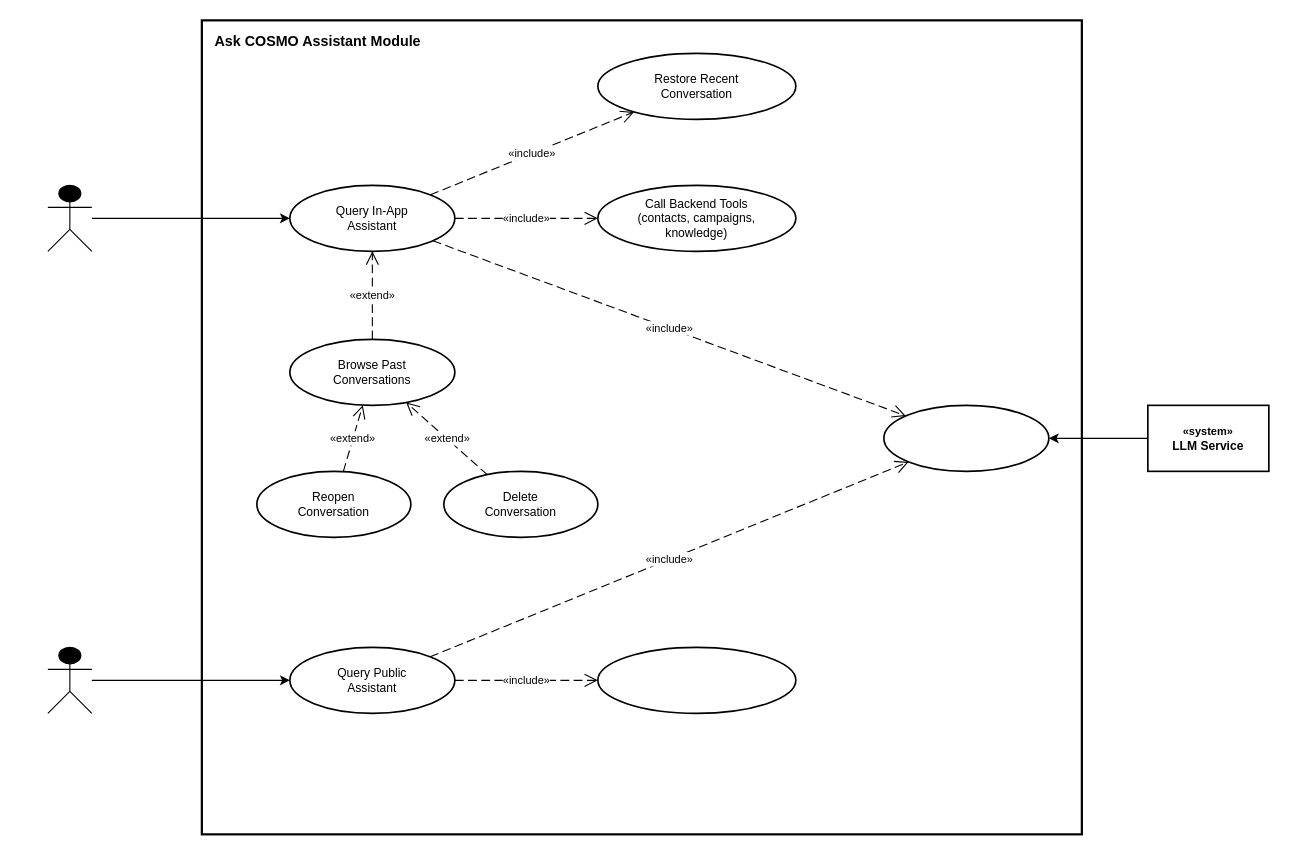
Image size: 1289x854. Some labels were removed from this diagram. The box of each missing label's shape, as (x1, y1, x2, y2) in pixels:
Answer from Fixed Corpus: (597, 646, 796, 714)
BD (Sales Rep): (47, 184, 92, 251)
Generate Answer: (883, 404, 1049, 472)
Visitor (unauthenticated): (47, 646, 92, 713)
